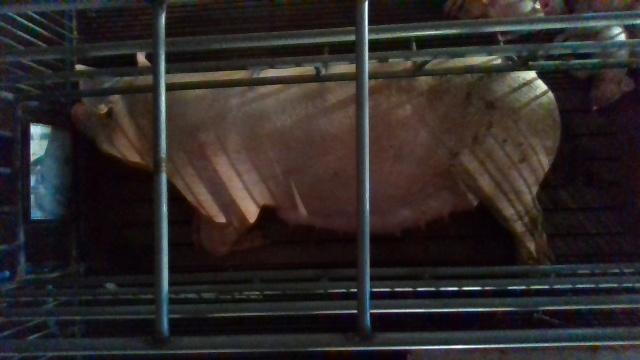piglet: (591, 25, 634, 111)
sow-sleep-lactate: (72, 48, 561, 266)
